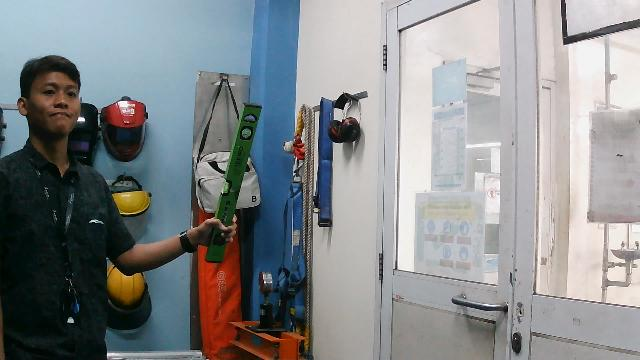water_pass: (204, 91, 267, 267)
